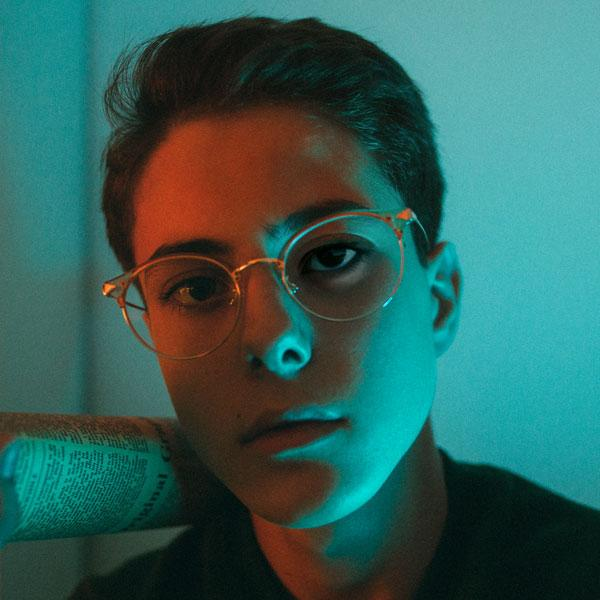Eyes: (153, 256, 235, 326), (291, 224, 371, 289)
